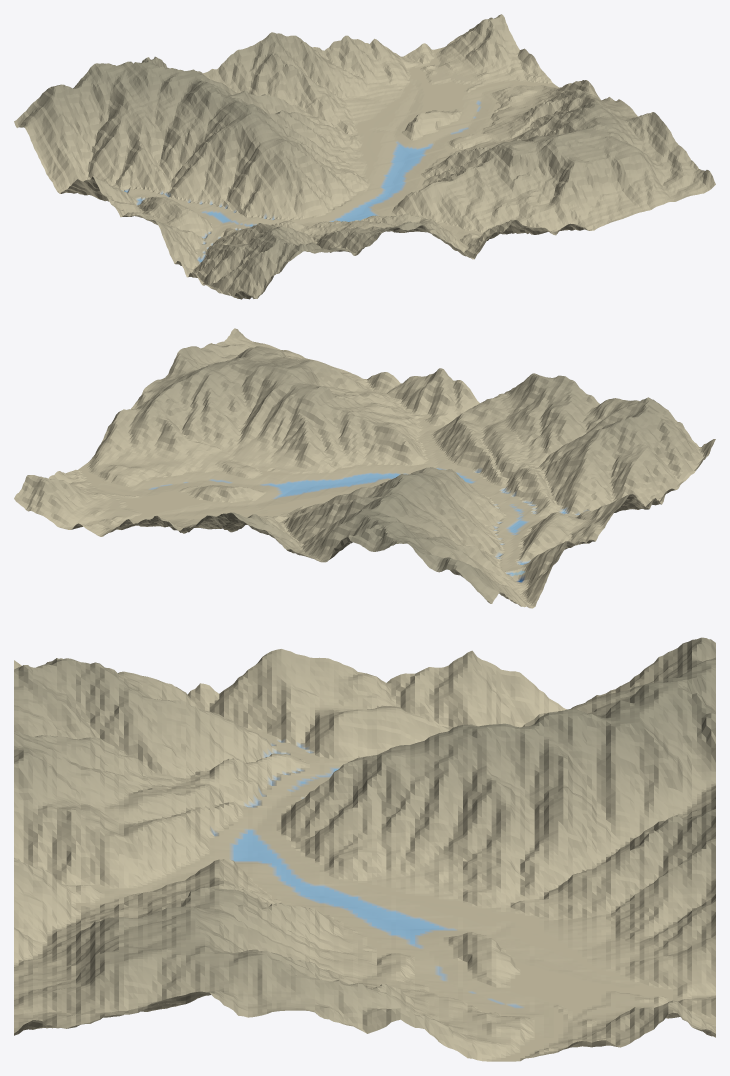
The model's file is detroit_lake_or.glb.
The picture shows the model from 3 angles, top to bottom: view 1: azimuth 30°, elevation 25°; view 2: azimuth 150°, elevation 25°; view 3: azimuth 270°, elevation 25°; orthographic projection. The views are drawn at different scales.
Parts seen in each view (by area): view 1: terrain, water; view 2: terrain, water; view 3: terrain, water.
Boxes of the visible parts, <box> form: terrain: <box>14,14,715,299</box>; water: <box>122,145,429,261</box>; terrain: <box>14,328,715,608</box>; water: <box>269,469,565,575</box>; terrain: <box>14,637,715,1061</box>; water: <box>233,769,443,943</box>.
Bounding box in the file's own units: 10251 × 1604 × 8478.
